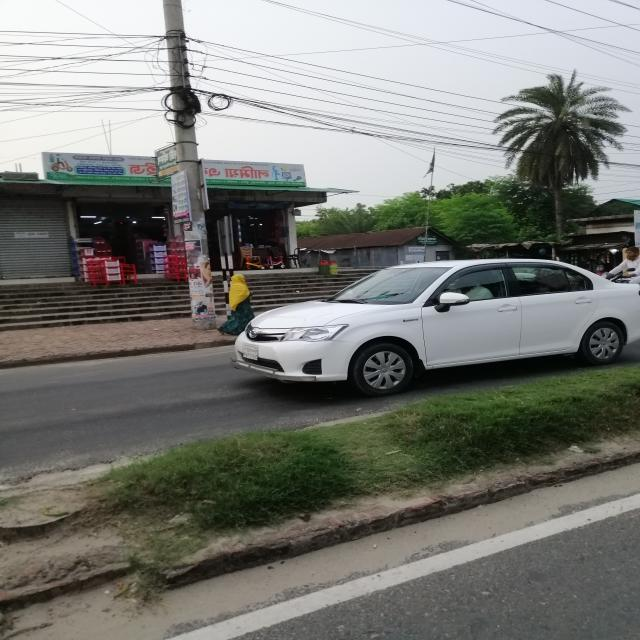Car: (231, 258, 640, 399)
